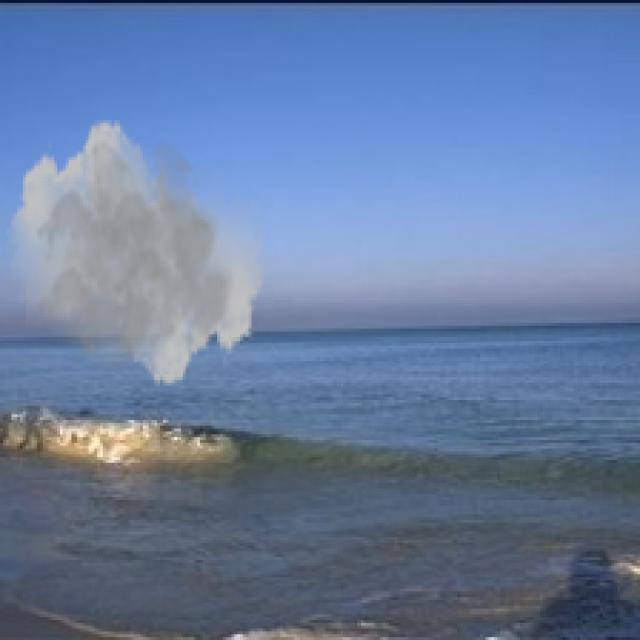smoke: (5, 117, 268, 389)
